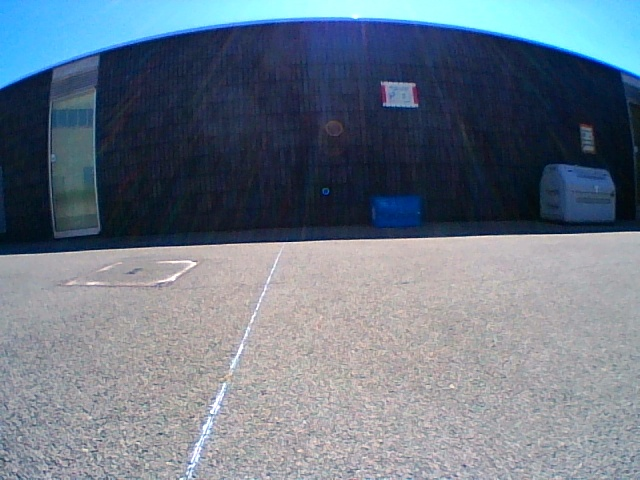blue_box: (370, 196, 421, 227)
tag: (371, 207, 373, 217)
